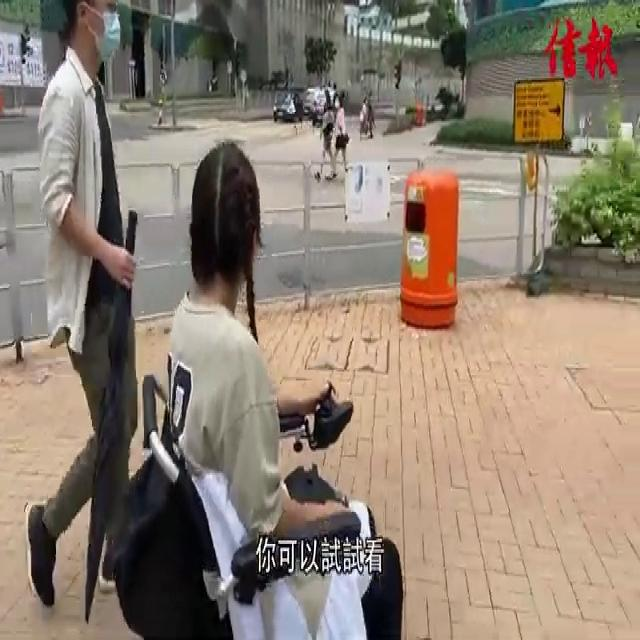wheelchairs: (97, 356, 442, 640)
